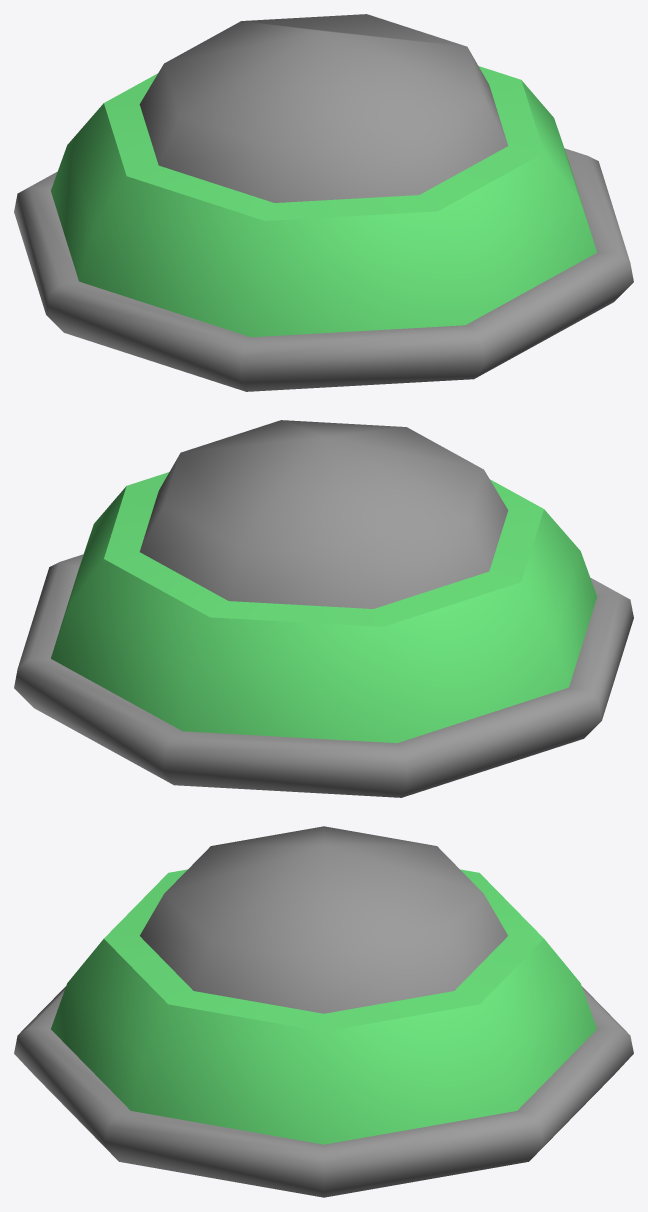
File: Note.fbx
3 renders of one model, top to bottom at view 1: azimuth 30°, elevation 25°; view 2: azimuth 150°, elevation 25°; view 3: azimuth 270°, elevation 25°, orthographic. The views are drawn at different scales.
Parts seen in each view (by area): view 1: Cylinder; view 2: Cylinder; view 3: Cylinder.
Part boxes in pixels (left/top/right/bottom): Cylinder: left=14, top=14, right=633, bottom=391; Cylinder: left=14, top=420, right=633, bottom=797; Cylinder: left=14, top=826, right=633, bottom=1197.
Bounding box in the file's own units: 198 × 80.91 × 198.
